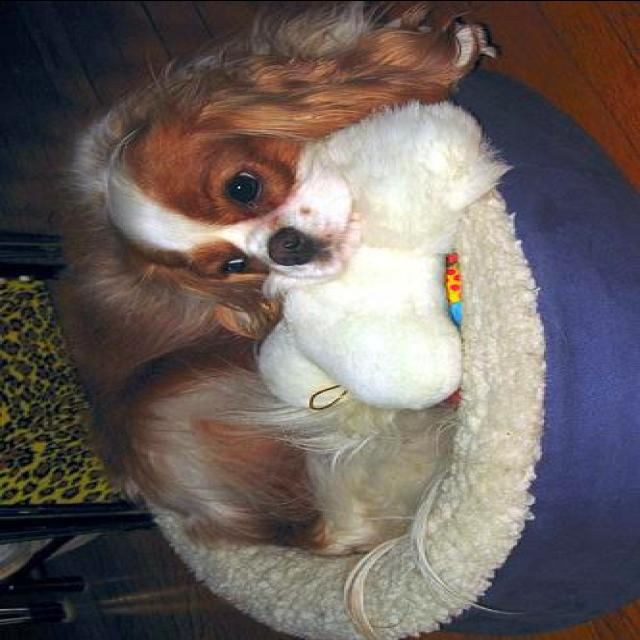blenheim_spaniel: (47, 1, 530, 638)
